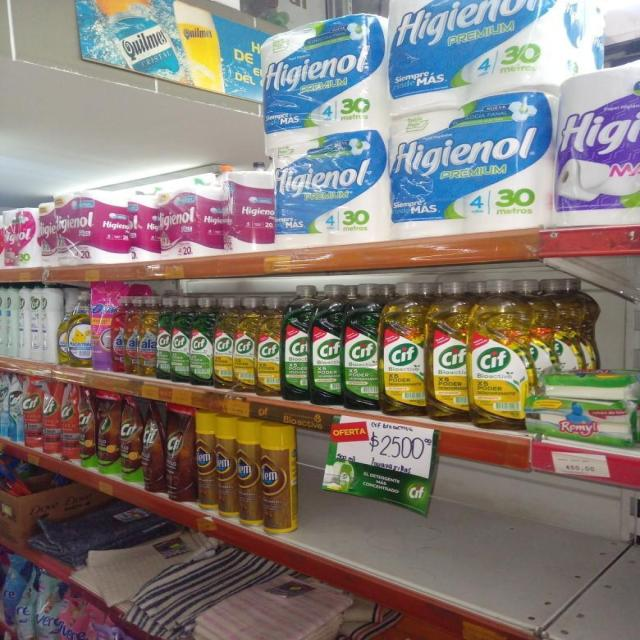ala_conc_amarillo: (140, 296, 156, 378), (126, 295, 140, 375)
ala_conc_rojo: (93, 288, 111, 372), (112, 294, 125, 373)
cif_conc_bot_amarilla: (470, 277, 529, 429), (381, 280, 426, 417), (428, 280, 468, 422), (257, 295, 281, 397), (235, 296, 256, 393), (213, 297, 234, 390)
cif_conc_botella_verde: (344, 283, 380, 411), (312, 283, 342, 406), (282, 285, 310, 402), (190, 296, 212, 386), (172, 296, 190, 384), (157, 294, 170, 380)
magistral_con_amarillo: (68, 289, 92, 368)
